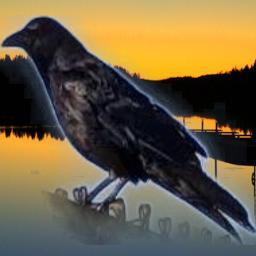Crow: (0, 15, 256, 245)
